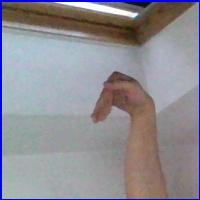del: (90, 64, 150, 128)
